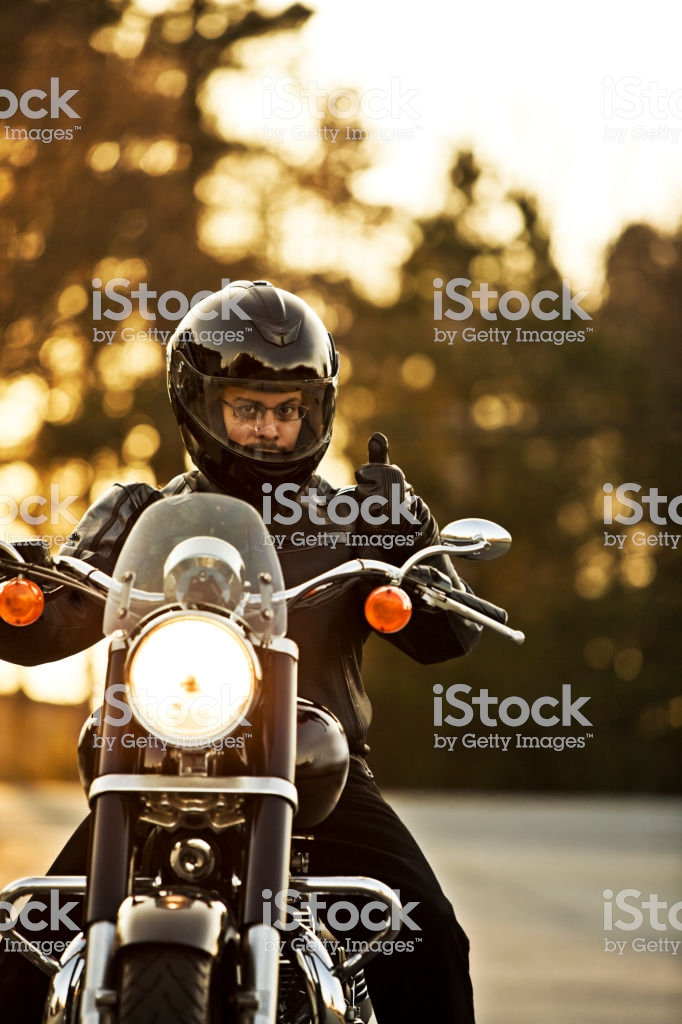helmet: (169, 268, 344, 500)
